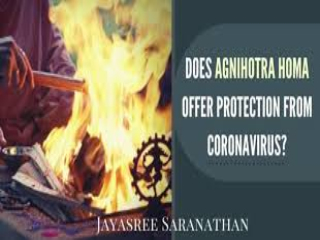fire: (36, 8, 170, 212)
